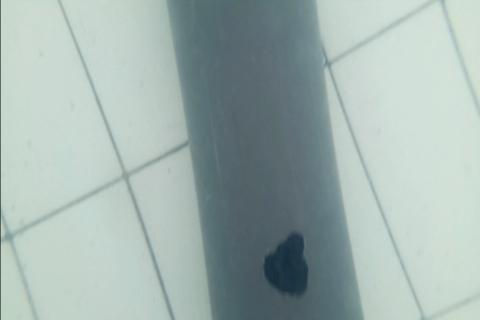kebocoran: (261, 229, 310, 297)
